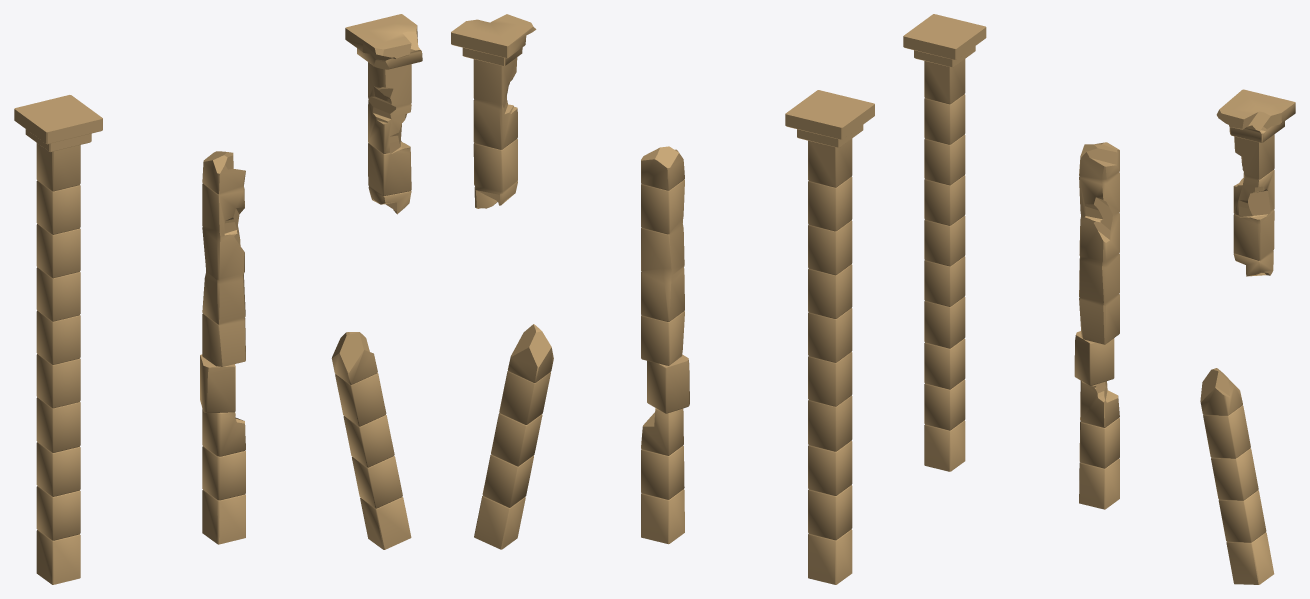
File: 2ndBridge_03_Supports.fbx
The picture shows the model from 3 angles, left to right: view 1: azimuth 30°, elevation 25°; view 2: azimuth 150°, elevation 25°; view 3: azimuth 330°, elevation 25°; orthographic projection. The views are drawn at different scales.
Parts seen in each view (by area): view 1: Support1; view 2: Support1; view 3: Support1.
Boxes of the visible parts, <box> form: Support1: <box>14,14,422,584</box>; Support1: <box>451,14,874,584</box>; Support1: <box>903,14,1295,584</box>.
Size of the model in its own units: 4606 by 5765 by 675.
